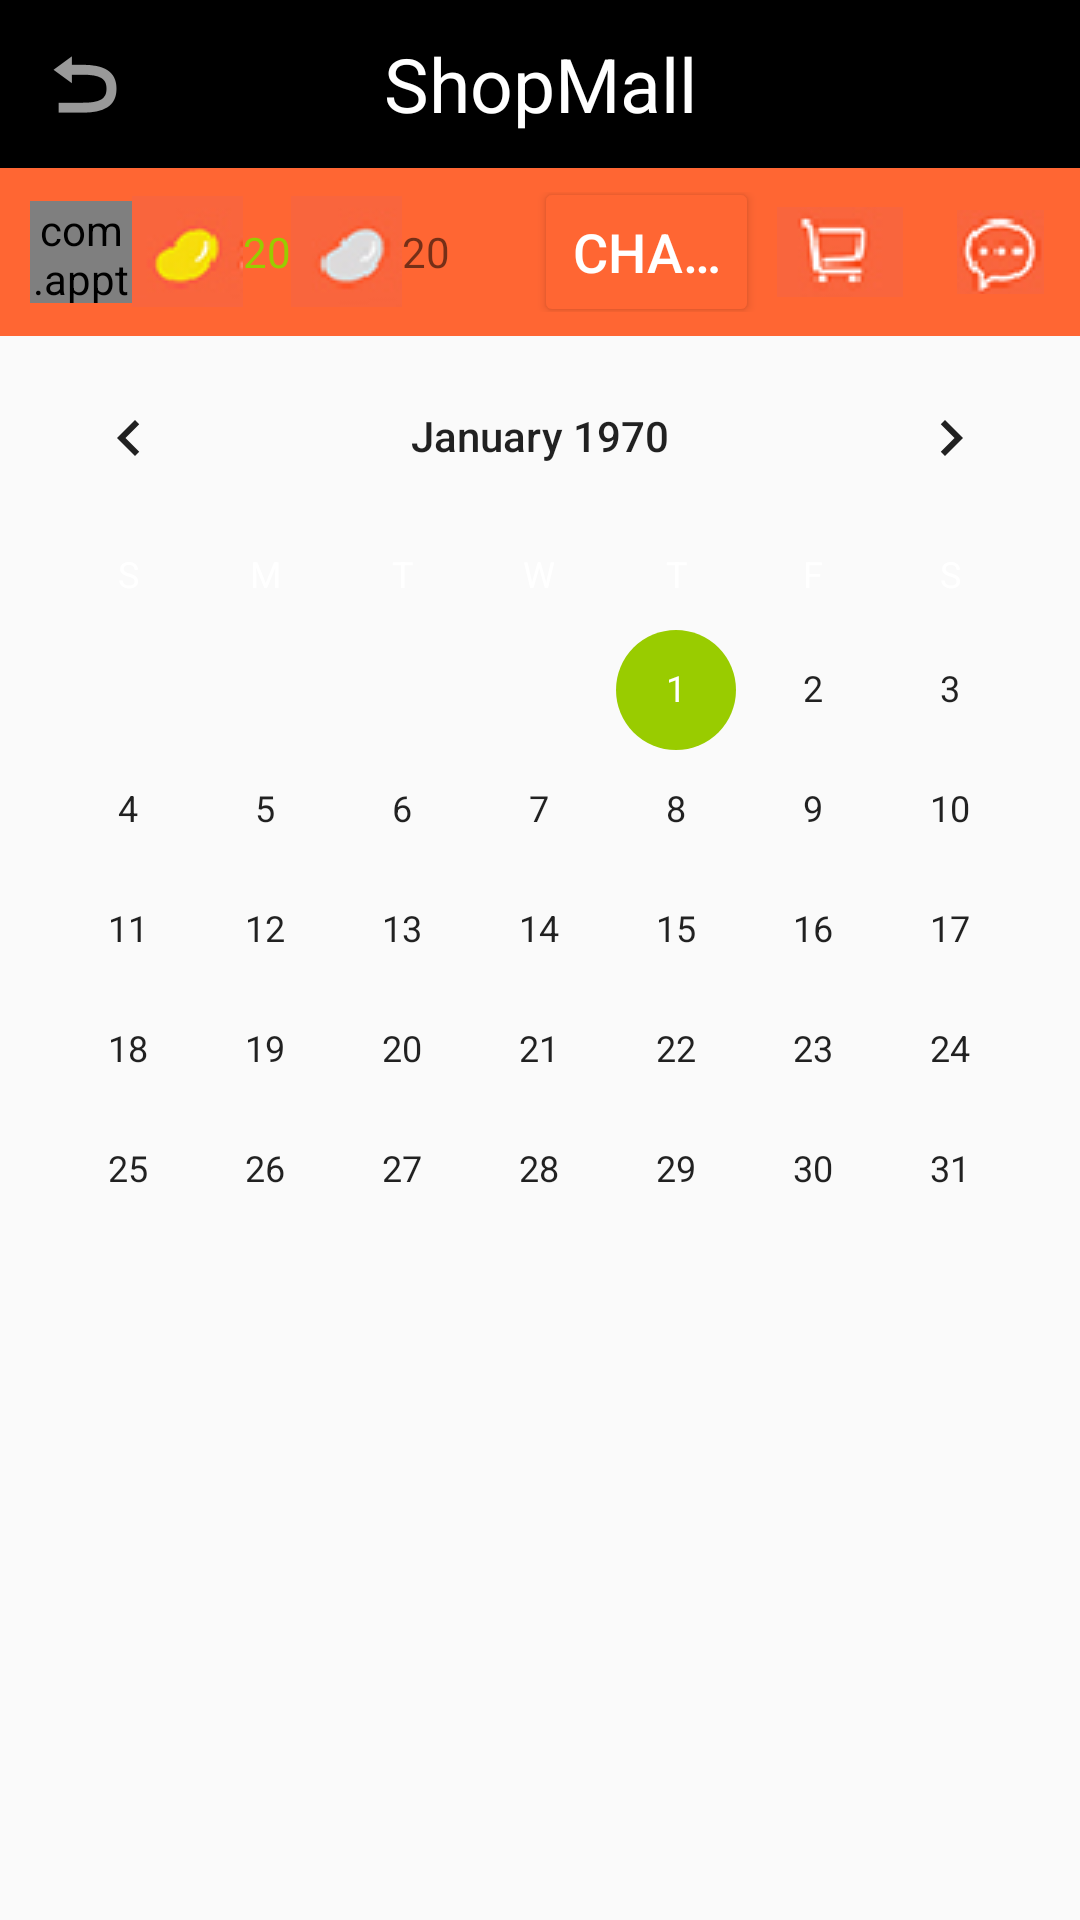

Icons on this 1080 x 1920 Android screen, each with the point to tap as point (x, y):
goldbean: point (199, 255)
messages: point (1000, 252)
shoppingcart: point (840, 252)
silverbean: point (352, 255)
